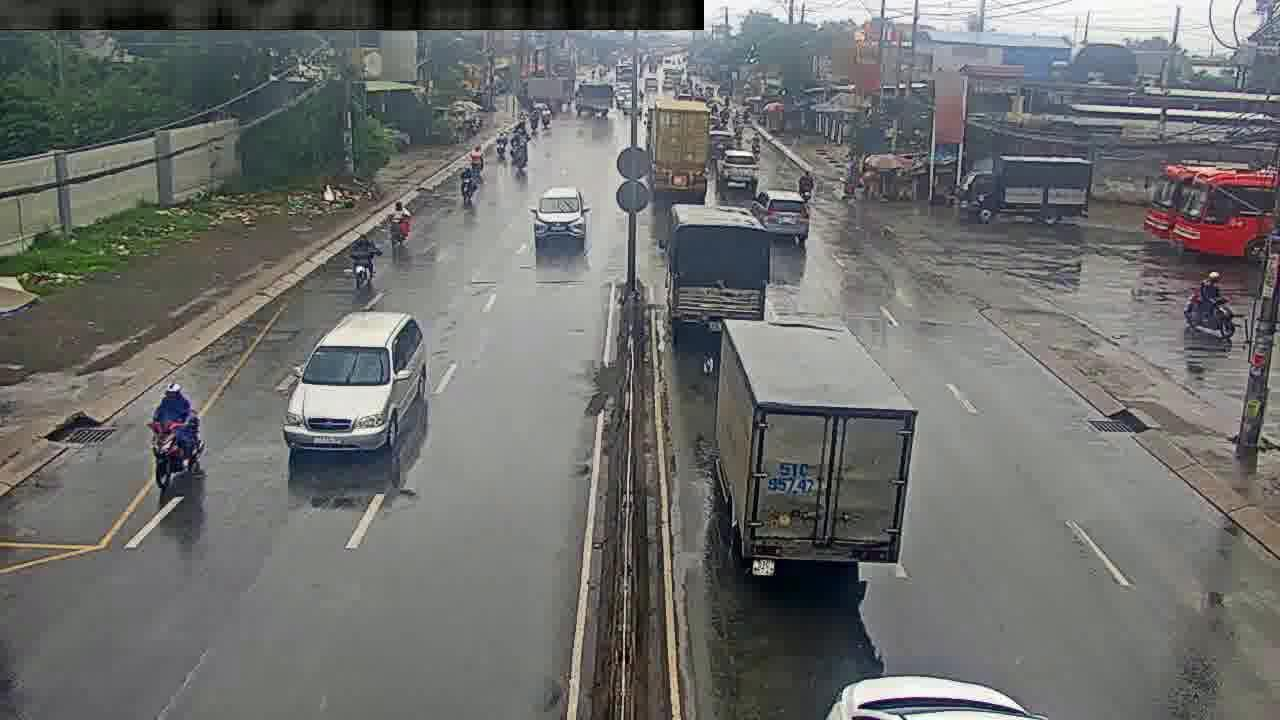8: (707, 317, 909, 578), (673, 200, 772, 328), (652, 100, 715, 187), (711, 150, 758, 191)
container: (275, 314, 432, 456), (538, 183, 588, 243), (762, 185, 809, 240)
motorbike: (150, 384, 202, 500), (1185, 262, 1233, 336), (350, 231, 378, 298), (390, 195, 413, 252), (792, 163, 815, 206), (459, 158, 477, 204), (508, 132, 522, 171)
